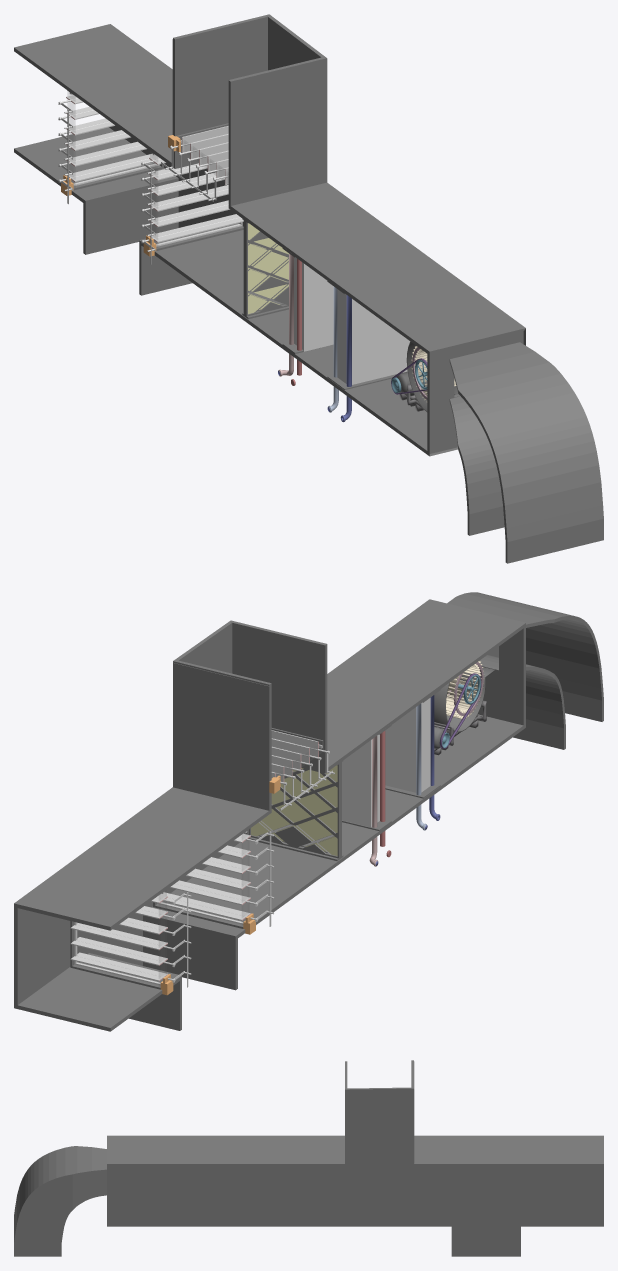
Rendered from rooftopLowpoly7_29_11_raj2.dae.
3 views of the same model, one above another, from view 1: azimuth 30°, elevation 25°; view 2: azimuth 150°, elevation 25°; view 3: azimuth 270°, elevation 25° (orthographic). The views are drawn at different scales.
Visible parts, largest first — view 1: BackDucting, RightDuct, CenterDamper, LeftDamper, CoolingCoilCenter, HeatingCoil, SideDucting, Filter, TopDamper, Fan, CoolingCoil; view 2: BackDucting, SideDucting, RightDuct, Filter, LeftDamper, CenterDamper, HeatingCoil, CoolingCoilCenter, Fan, TopDamper, CoolingCoil; view 3: BackDucting, RightDuct.
Part boxes in pixels (left/top/right/bottom): BackDucting: left=14, top=14, right=523, bottom=450; RightDuct: left=427, top=326, right=603, bottom=563; CenterDamper: left=141, top=151, right=243, bottom=264; LeftDamper: left=58, top=90, right=163, bottom=204; CoolingCoilCenter: left=337, top=289, right=410, bottom=384; HeatingCoil: left=278, top=247, right=333, bottom=385; SideDucting: left=14, top=39, right=427, bottom=454; Filter: left=242, top=218, right=288, bottom=319; TopDamper: left=161, top=123, right=228, bottom=201; Fan: left=391, top=341, right=456, bottom=412; CoolingCoil: left=327, top=281, right=407, bottom=422; BackDucting: left=14, top=601, right=523, bottom=1031; SideDucting: left=110, top=620, right=523, bottom=939; RightDuct: left=427, top=592, right=603, bottom=749; Filter: left=245, top=760, right=343, bottom=861; LeftDamper: left=70, top=890, right=191, bottom=995; CenterDamper: left=153, top=829, right=274, bottom=934; HeatingCoil: left=342, top=724, right=391, bottom=866; CoolingCoilCenter: left=385, top=698, right=430, bottom=792; Fan: left=434, top=661, right=486, bottom=755; TopDamper: left=269, top=728, right=334, bottom=810; CoolingCoil: left=385, top=689, right=440, bottom=830; BackDucting: left=110, top=1060, right=603, bottom=1256; RightDuct: left=14, top=1135, right=109, bottom=1256.
Bounding box in the file's own units: 2.07 × 15.9 × 4.99.
